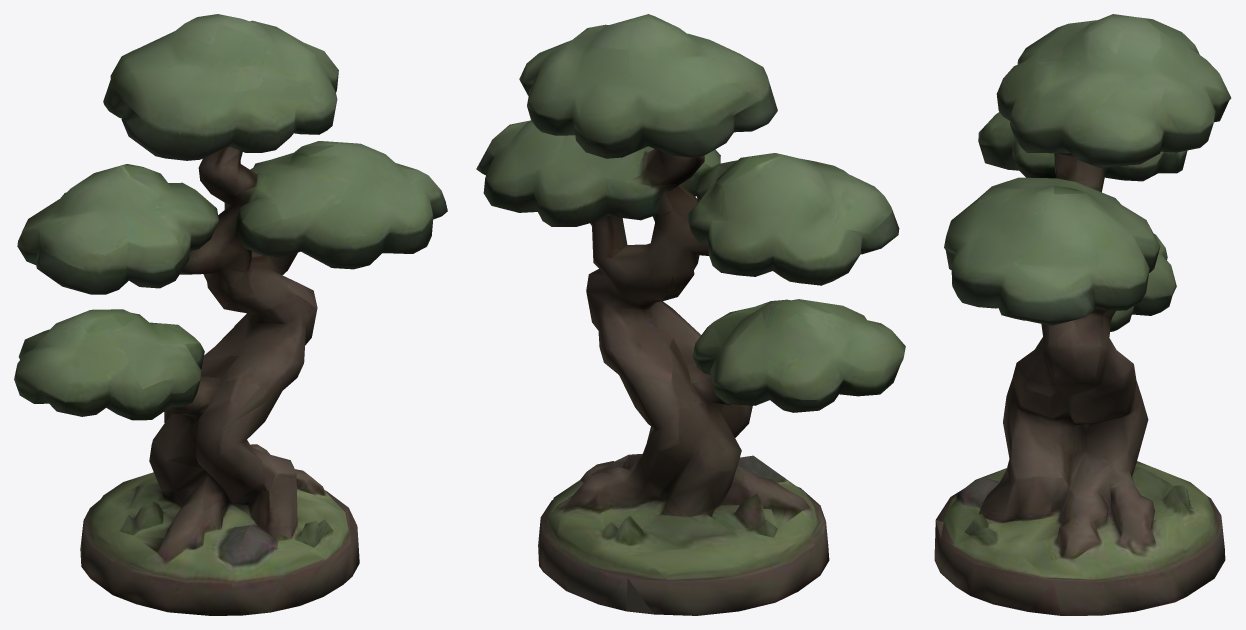
File: pine.glb
3 renders of one model, left to right at view 1: azimuth 30°, elevation 25°; view 2: azimuth 150°, elevation 25°; view 3: azimuth 270°, elevation 25°, orthographic. The views are drawn at different scales.
Parts seen in each view (by area): view 1: tripo_node_8e8c41fe-d55c-46d8-bbee-8a478c3097d2; view 2: tripo_node_8e8c41fe-d55c-46d8-bbee-8a478c3097d2; view 3: tripo_node_8e8c41fe-d55c-46d8-bbee-8a478c3097d2.
Part boxes in pixels (left/top/right/bottom): tripo_node_8e8c41fe-d55c-46d8-bbee-8a478c3097d2: left=14, top=14, right=447, bottom=615; tripo_node_8e8c41fe-d55c-46d8-bbee-8a478c3097d2: left=476, top=14, right=905, bottom=615; tripo_node_8e8c41fe-d55c-46d8-bbee-8a478c3097d2: left=934, top=14, right=1231, bottom=615.
Bounding box in the file's own units: 0.7913 × 0.9802 × 0.4865.
1 material, 1 textured.
